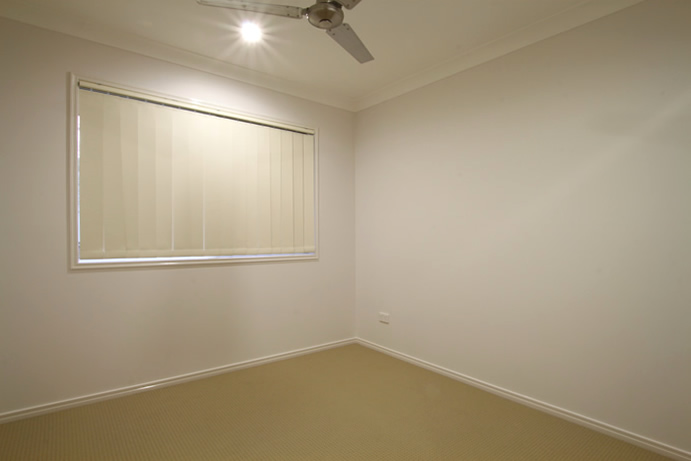ceiling fan: (188, 1, 386, 69)
